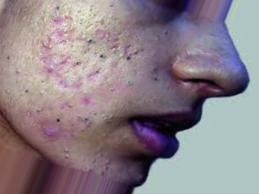Acne: (37, 15, 153, 162)
